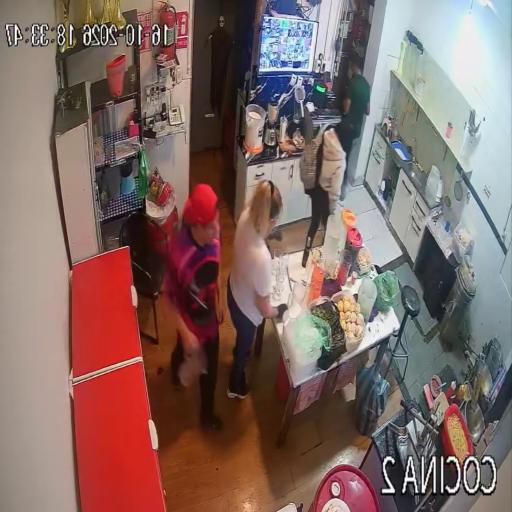Envase Ketchup: (446, 380, 455, 400)
Envase Llajua: (451, 388, 464, 405)
Jarra1: (346, 228, 362, 274)
Jarra2: (340, 209, 356, 244)
Jarra3: (323, 215, 342, 265)
Persona1: (167, 183, 225, 429)
Persona3: (227, 180, 288, 399)
Persona4: (342, 56, 370, 164)
Persona5: (301, 121, 351, 266)
Taper: (452, 225, 472, 261)
Taper2: (309, 296, 346, 370)
Taper3: (282, 304, 322, 384)
Taper4: (330, 290, 366, 352)
olla1: (474, 358, 493, 401)
